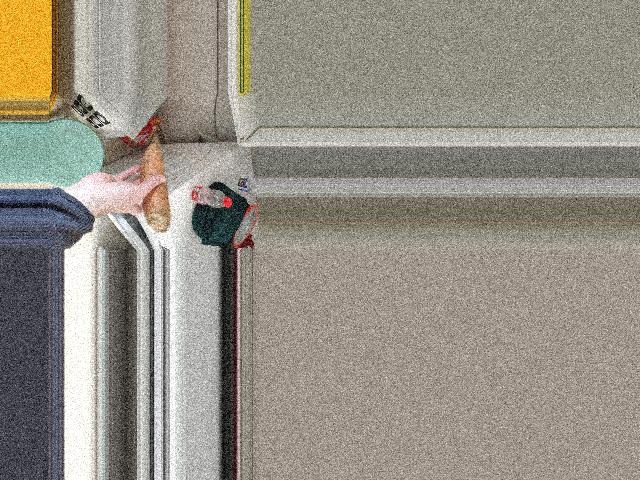sweet_potato: (141, 144, 162, 219)
